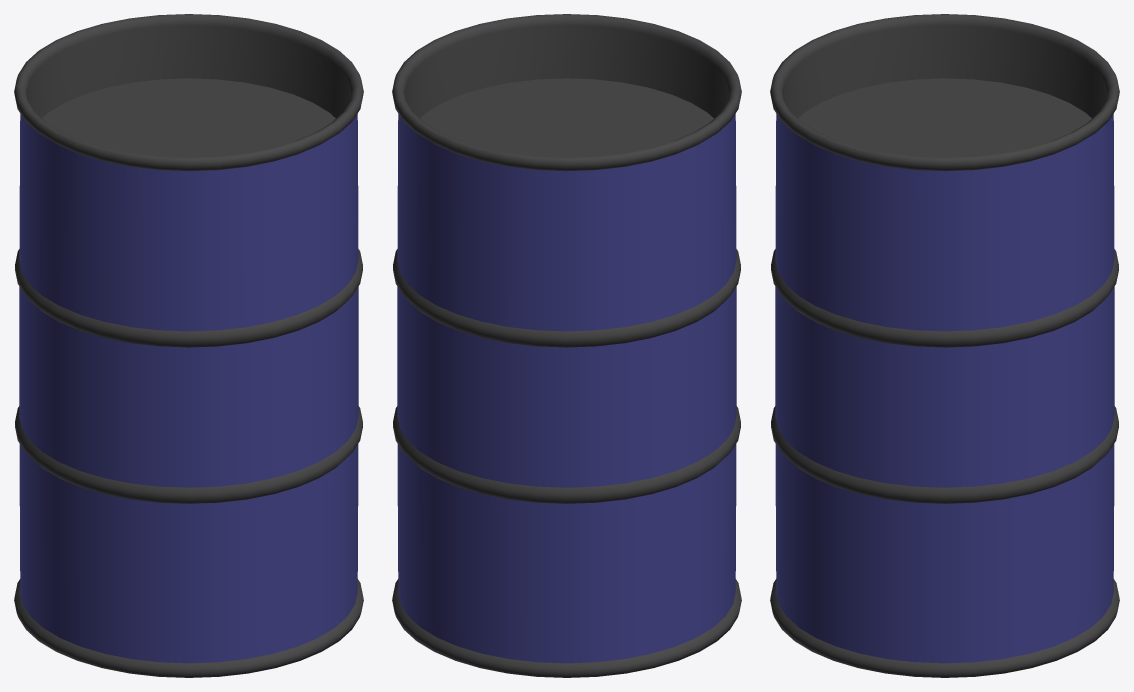
Rendered from mavi_barell.fbx.
3 views of the same model, side by side, from view 1: azimuth 30°, elevation 25°; view 2: azimuth 150°, elevation 25°; view 3: azimuth 270°, elevation 25° (orthographic).
Parts seen in each view (by area): view 1: polySurface7; view 2: polySurface7; view 3: polySurface7.
Part boxes in pixels (left/top/right/bottom): polySurface7: left=14, top=14, right=363, bottom=677; polySurface7: left=392, top=14, right=741, bottom=677; polySurface7: left=770, top=14, right=1119, bottom=677.
Bounding box in the file's own units: 55.72 × 91.44 × 55.71.
